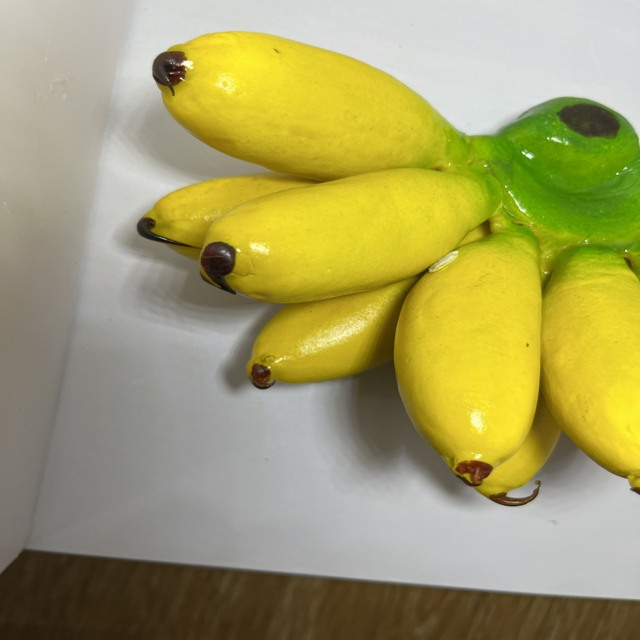Chuoi: (122, 32, 640, 512)
